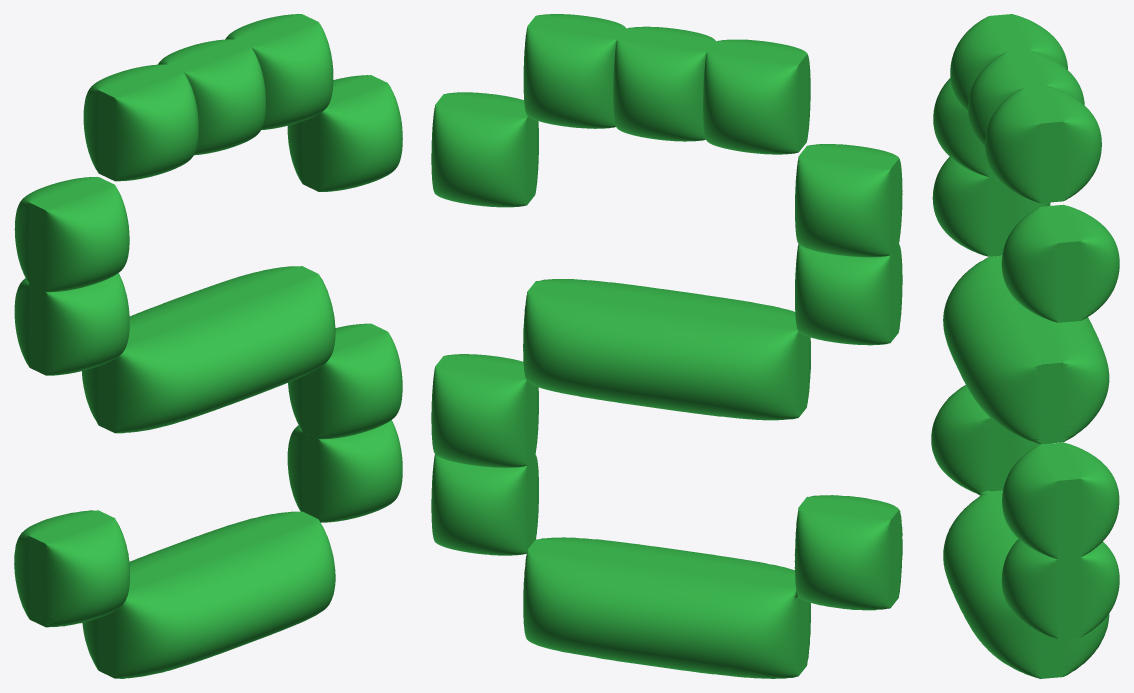
3 views of the same model, side by side, from view 1: azimuth 30°, elevation 25°; view 2: azimuth 150°, elevation 25°; view 3: azimuth 270°, elevation 25° (orthographic). The views are drawn at different scales.
Parts seen in each view (by area): view 1: Mesh_12.002; view 2: Mesh_12.002; view 3: Mesh_12.002.
Part boxes in pixels (x1,y1,x2,y2): Mesh_12.002: (14, 14, 402, 678); Mesh_12.002: (431, 14, 902, 678); Mesh_12.002: (931, 14, 1119, 678).
Size of the model in its own units: 0.0659 by 0.0928 by 0.0286.
